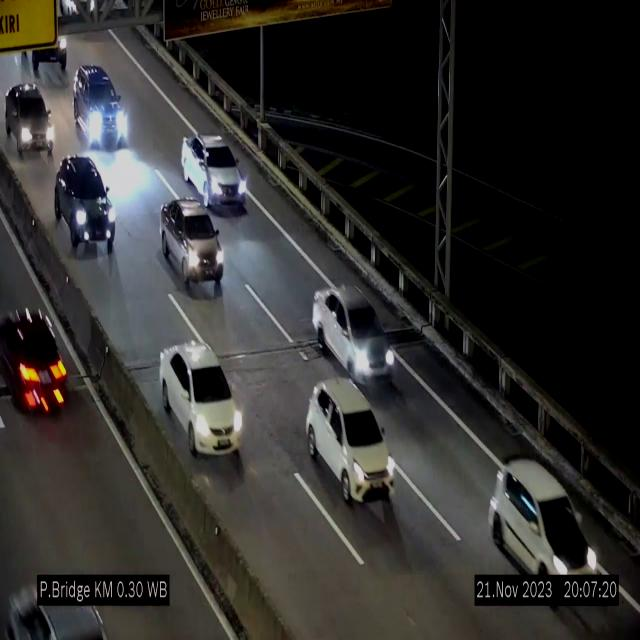Car: (486, 454, 598, 582), (307, 380, 395, 502), (159, 342, 243, 459), (0, 290, 74, 422), (312, 285, 398, 383), (0, 571, 105, 640), (52, 153, 116, 257), (162, 200, 224, 297), (181, 133, 248, 212), (74, 65, 130, 149), (4, 79, 54, 158)
